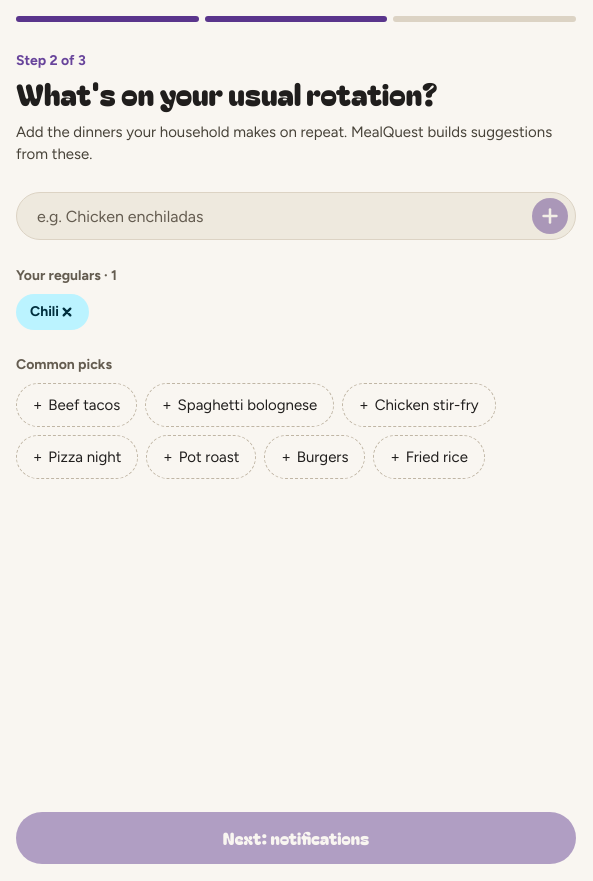
Test: onboarding step 2 (mock 1h) › takes an add back out and says why when the server refuses it
Expected: the heading "Common picks" is shown, [16,356,112,373]
Expected: the heading "Your regulars · 1" is shown, [16,267,117,284]
Type "chili" into the field named "Dinner name". click: coordinates (296, 216)
box: [16,192,576,240]
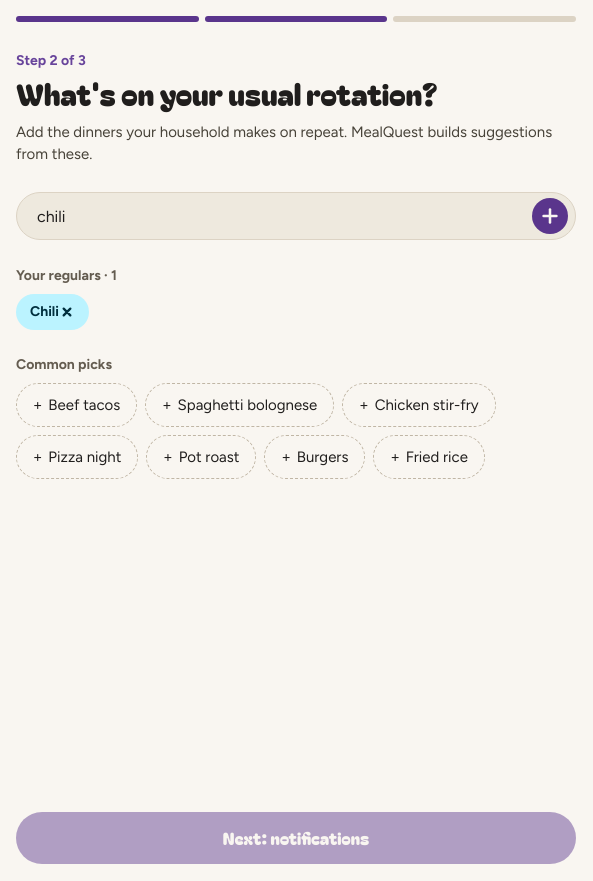
Submit the form from the field named "Dinner name", box [16,192,576,240]
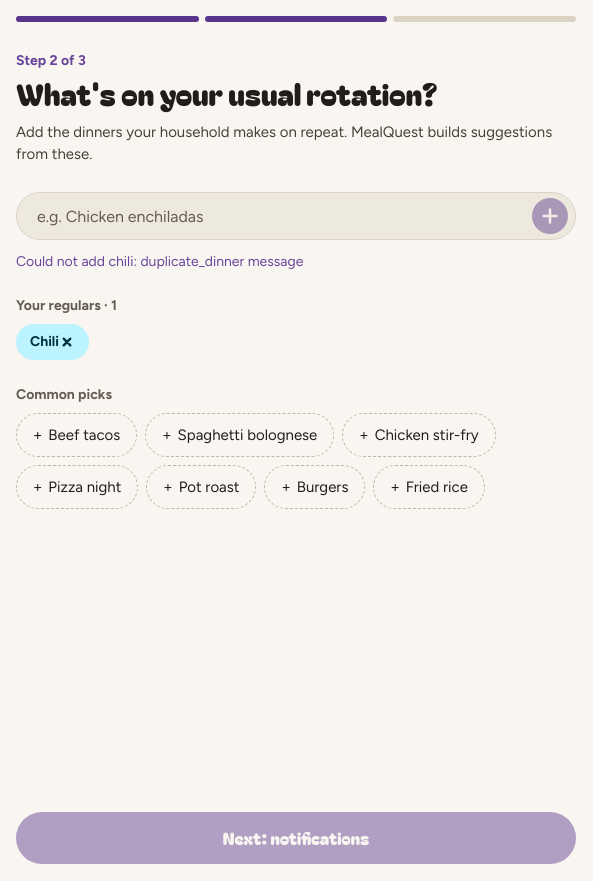
Expected: the message reads "Could not add chili: duplicate_dinner message", [16,254,303,270]
